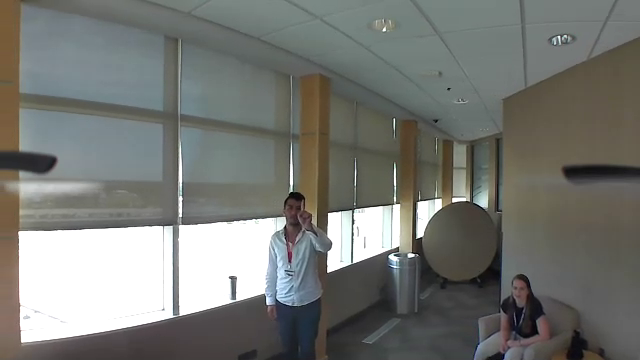up: (294, 197, 317, 232)
